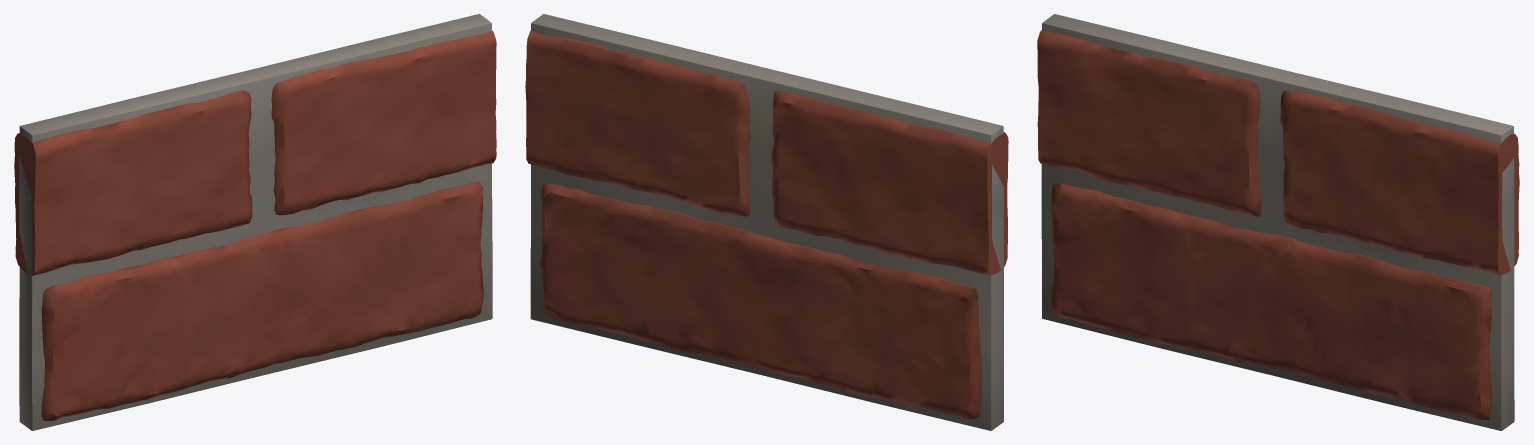
The model's file is ember_brick_wall.glb.
3 renders of one model, left to right at view 1: azimuth 30°, elevation 25°; view 2: azimuth 150°, elevation 25°; view 3: azimuth 330°, elevation 25°, orthographic.
Visible parts, largest first — view 1: ember_brick_wall; view 2: ember_brick_wall; view 3: ember_brick_wall.
Boxes of the visible parts, <box> form: ember_brick_wall: <box>14,14,496,430</box>; ember_brick_wall: <box>525,14,1008,430</box>; ember_brick_wall: <box>1037,14,1519,430</box>.
Bounding box in the file's own units: 65.07 × 40.08 × 5.68.
